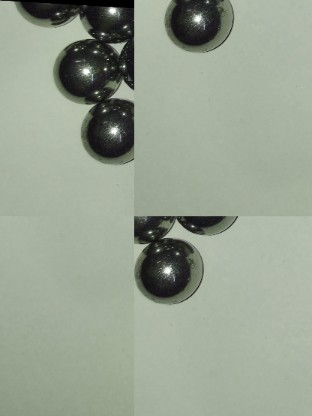ironball: (134, 232, 215, 308), (162, 0, 237, 61), (53, 41, 130, 100), (77, 100, 130, 165), (76, 0, 136, 44), (11, 1, 86, 24), (174, 216, 246, 236), (134, 216, 178, 241)
